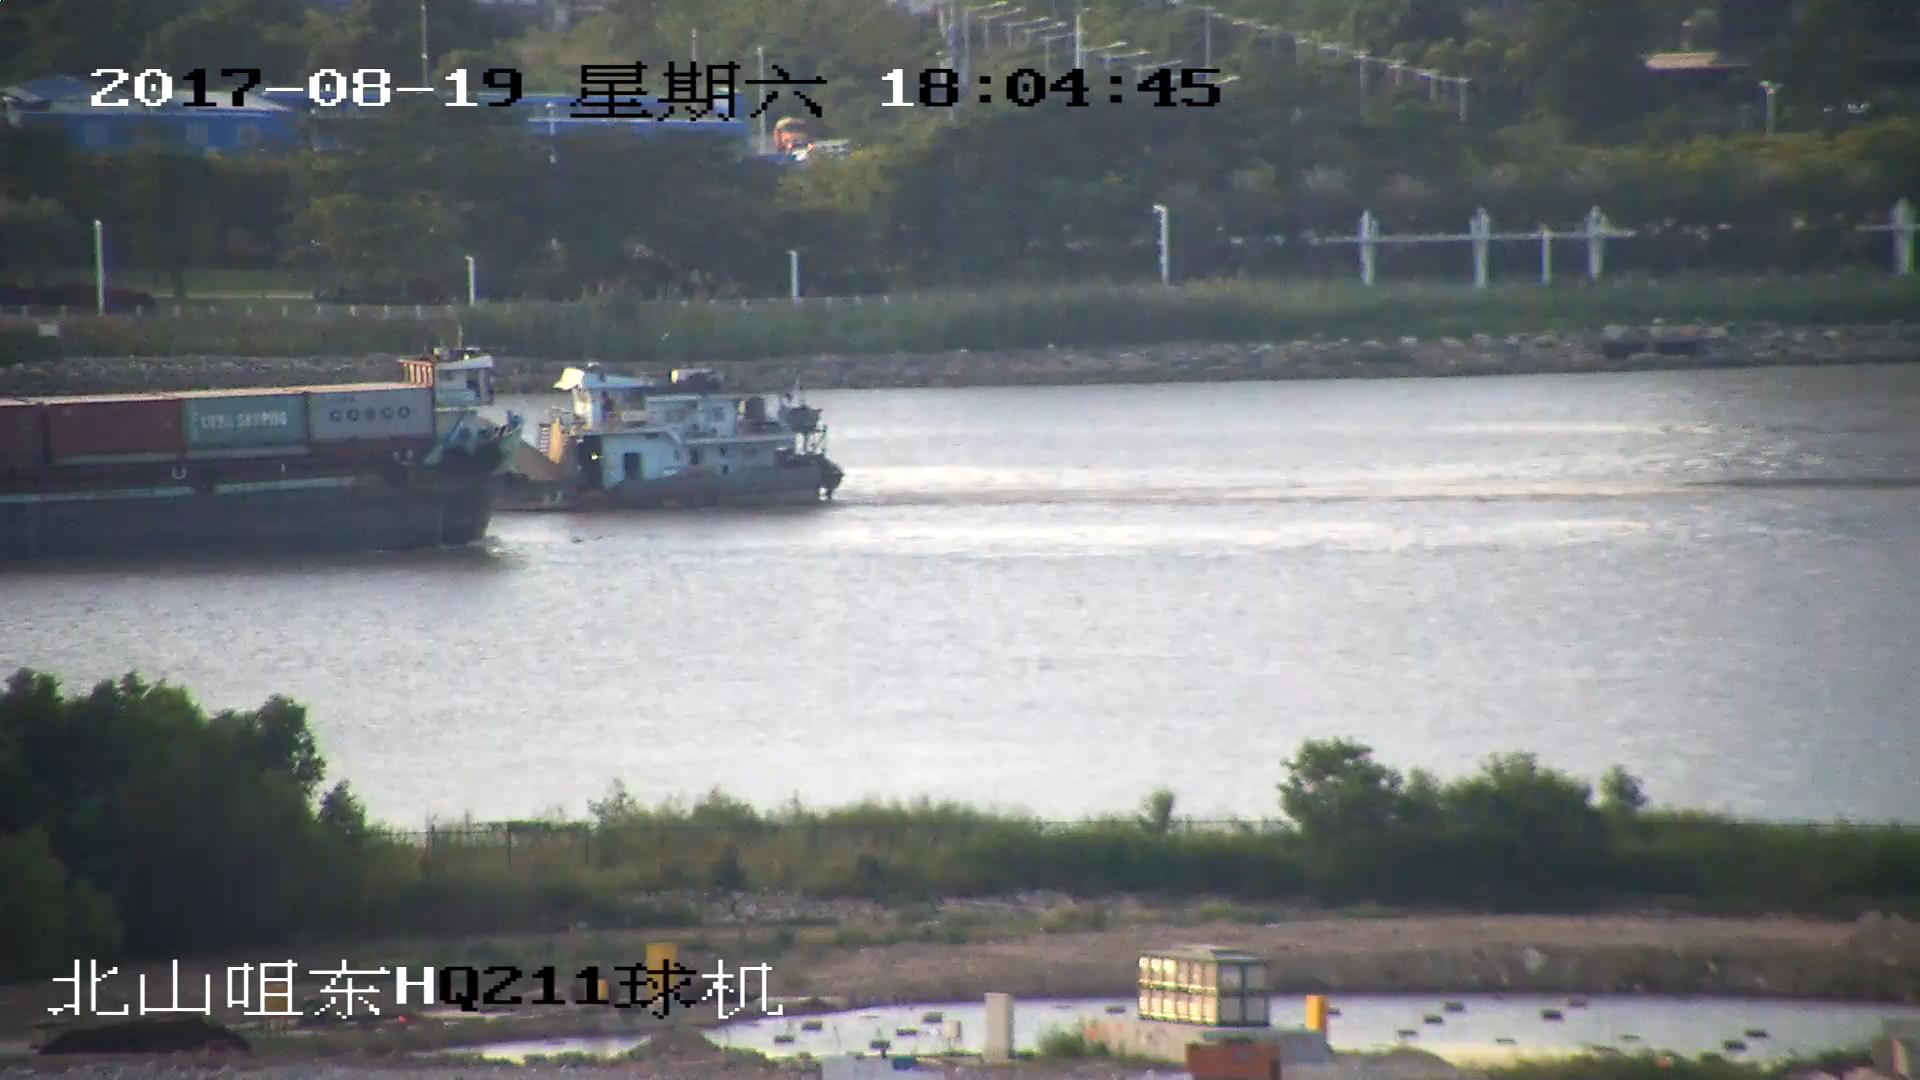container ship: (1, 348, 512, 552)
